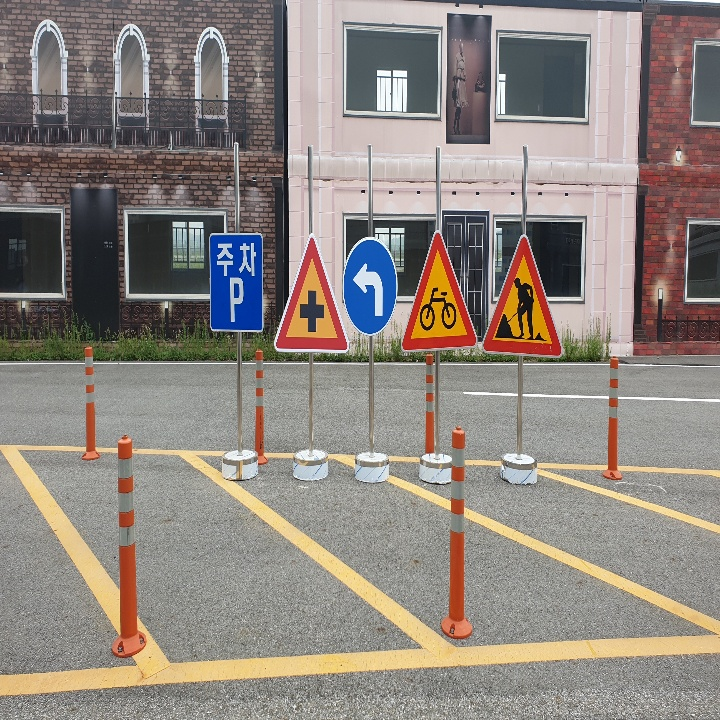bicycle: (403, 231, 479, 347)
const: (495, 270, 552, 344), (293, 287, 330, 341)
left: (349, 259, 388, 323)
parking: (223, 274, 249, 326)
